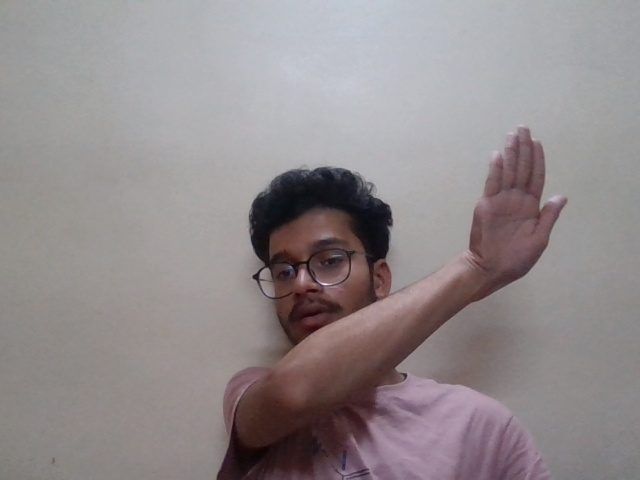hello: (442, 117, 607, 317)
